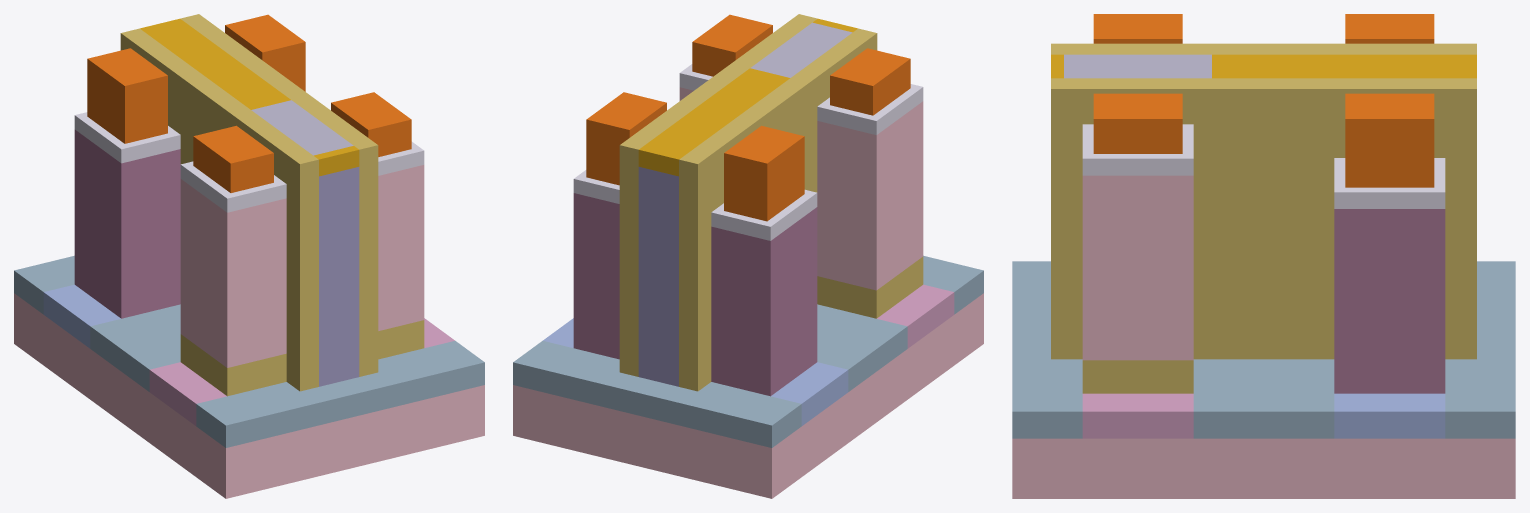
Rendered from ns-sige.obj.
3 views of the same model, side by side, from view 1: azimuth 30°, elevation 25°; view 2: azimuth 150°, elevation 25°; view 3: azimuth 270°, elevation 25° (orthographic). The views are drawn at different scales.
Parts seen in each view (by area): view 1: n_substrate, p_epi_source, n_epi_source, n_sti, n_spacer_source, n_mo, n_epi_drain, p_ni_source, n_spacer_drain, p_substrate, p_sti, n_bdi (+15 smaller); view 2: p_substrate, p_epi_source, n_epi_source, p_sti, p_spacer_source, p_mo, p_epi_drain, p_ni_source, p_spacer_drain, n_substrate, n_sti, n_ni_source (+15 smaller); view 3: b_spacers, p_spacer_drain, n_epi_drain, p_epi_drain, n_spacer_drain, n_substrate, p_substrate, n_sti, p_sti, p_ni_drain, n_ni_drain, n_pts (+13 smaller).
Part boxes in pixels (x1,y1,x2,y2): n_substrate: [120, 371, 484, 498]; p_epi_source: [74, 129, 180, 318]; n_epi_source: [180, 179, 286, 367]; n_sti: [120, 333, 484, 447]; n_spacer_source: [226, 106, 318, 391]; n_mo: [319, 167, 359, 386]; n_epi_drain: [378, 165, 424, 330]; p_ni_source: [87, 48, 167, 143]; n_spacer_drain: [286, 91, 378, 376]; p_substrate: [14, 293, 119, 420]; p_sti: [14, 255, 180, 370]; n_bdi: [180, 320, 424, 396]; p_substrate: [513, 371, 877, 498]; p_epi_source: [711, 207, 817, 396]; n_epi_source: [817, 101, 923, 290]; p_sti: [513, 333, 877, 447]; p_spacer_source: [679, 106, 771, 391]; p_mo: [638, 167, 678, 386]; p_epi_drain: [573, 193, 619, 359]; p_ni_source: [724, 125, 804, 221]; p_spacer_drain: [619, 91, 711, 376]; n_substrate: [878, 293, 983, 420]; n_sti: [817, 255, 983, 370]; n_ni_source: [830, 48, 910, 115]; b_spacers: [1225, 43, 1302, 359]; p_spacer_drain: [1303, 78, 1476, 359]; n_epi_drain: [1082, 175, 1193, 360]; p_epi_drain: [1334, 209, 1445, 393]; n_spacer_drain: [1051, 78, 1224, 359]; n_substrate: [1012, 438, 1263, 498]; p_substrate: [1264, 438, 1515, 498]; n_sti: [1012, 261, 1263, 438]; p_sti: [1264, 261, 1515, 438]; p_ni_drain: [1345, 93, 1434, 187]; n_ni_drain: [1093, 93, 1182, 153]; n_pts: [1082, 393, 1193, 438].
Size of the model in its own units: 96 by 106 by 136.
